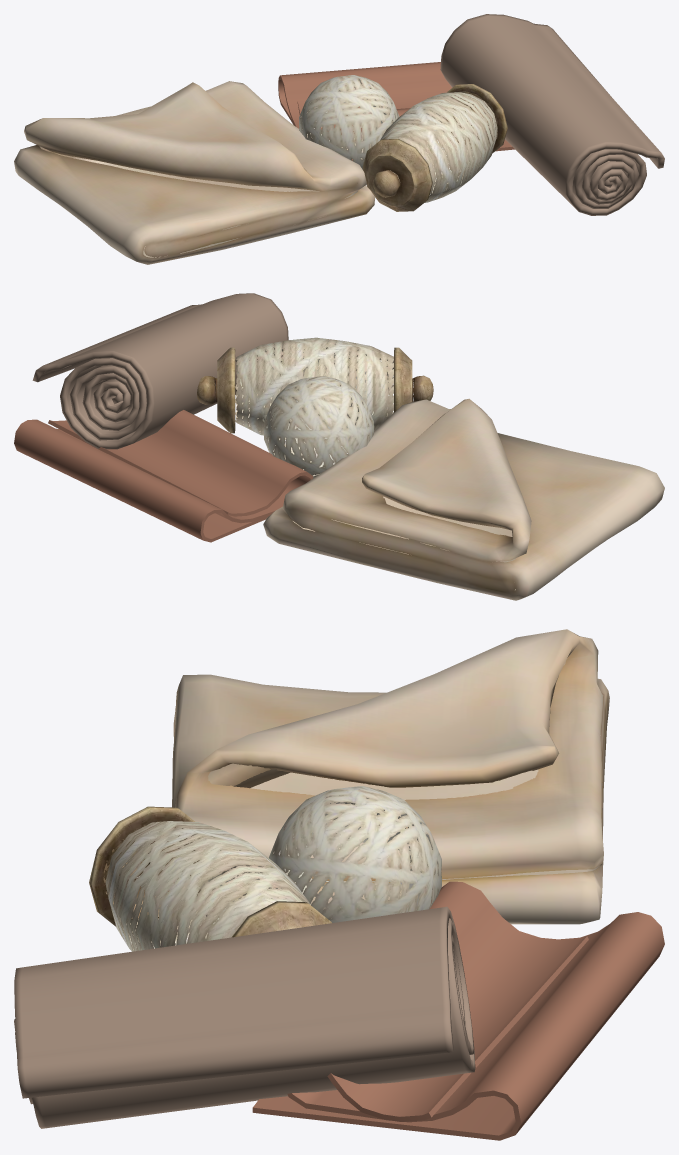
The picture shows the model from 3 angles, top to bottom: view 1: azimuth 30°, elevation 25°; view 2: azimuth 150°, elevation 25°; view 3: azimuth 270°, elevation 25°; orthographic projection. The views are drawn at different scales.
Parts seen in each view (by area): view 1: SM_Dec_Sewing_Kit_LOD0; view 2: SM_Dec_Sewing_Kit_LOD0; view 3: SM_Dec_Sewing_Kit_LOD0.
Boxes of the visible parts, x1,y1,x2,y2 form: SM_Dec_Sewing_Kit_LOD0: (14, 14, 664, 264); SM_Dec_Sewing_Kit_LOD0: (14, 293, 664, 600); SM_Dec_Sewing_Kit_LOD0: (14, 629, 664, 1140).
Bounding box in the file's own units: 1.12 × 0.2483 × 0.7287.
5 materials, 3 textured.
